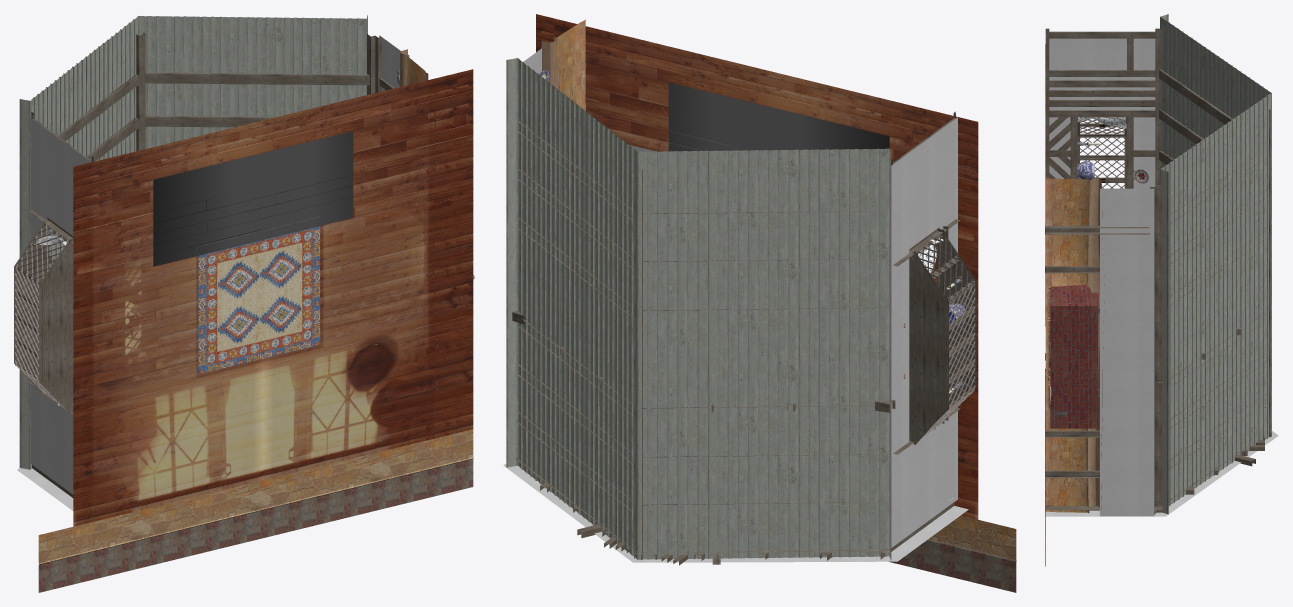
The model's file is s06_room_country.fbx.
3 renders of one model, left to right at view 1: azimuth 30°, elevation 25°; view 2: azimuth 150°, elevation 25°; view 3: azimuth 270°, elevation 25°, orthographic. The views are drawn at different scales.
Visible parts, largest first — view 1: InShape (×10), groupShape32 (×2); view 2: InShape (×9), groupShape32 (×2); view 3: InShape (×12).
Part boxes in pixels (bbox=[...]): InShape (×10): bbox=[14, 15, 473, 526]; groupShape32 (×2): bbox=[38, 429, 473, 592]; InShape (×9): bbox=[503, 14, 978, 565]; groupShape32 (×2): bbox=[889, 515, 1016, 592]; InShape (×12): bbox=[1045, 14, 1278, 516].
Bounding box in the file's own units: 1250 × 1182 × 621.
